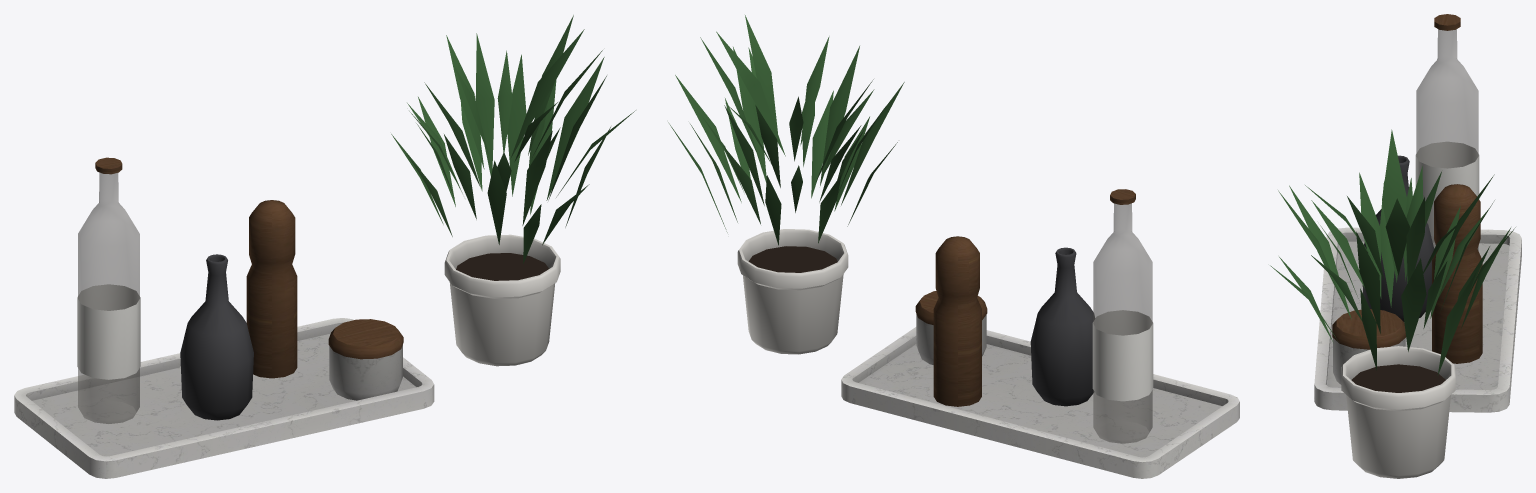
File: decor_b_vignette_range_r.gltf
3 renders of one model, left to right at view 1: azimuth 30°, elevation 25°; view 2: azimuth 150°, elevation 25°; view 3: azimuth 270°, elevation 25°, orthographic. The views are drawn at different scales.
Parts seen in each view (by area): view 1: DecorBVignetteRangeR_Marble_NoCollide, DecorBVignetteRangeR_Leaf_NoCollide, DecorBVignetteRangeR_CeramicWhite_NoCollide, DecorBVignetteRangeR_Bottle01_GlassSmoke_NoCollide, DecorBVignetteRangeR_Vase01_CeramicCharcoal_NoCollide, DecorBVignetteRangeR_PepperMill01_Walnut_NoCollide, DecorBVignetteRangeR_Bottle01_PaperWhite_NoCollide, DecorBVignetteRangeR_SaltCellar01_Marble_NoCollide, DecorBVignetteRangeR_SaltCellar01_Walnut_NoCollide, DecorBVignetteRangeR_Coffee_NoCollide; view 2: DecorBVignetteRangeR_Marble_NoCollide, DecorBVignetteRangeR_Leaf_NoCollide, DecorBVignetteRangeR_CeramicWhite_NoCollide, DecorBVignetteRangeR_Bottle01_GlassSmoke_NoCollide, DecorBVignetteRangeR_PepperMill01_Walnut_NoCollide, DecorBVignetteRangeR_Vase01_CeramicCharcoal_NoCollide, DecorBVignetteRangeR_Bottle01_PaperWhite_NoCollide, DecorBVignetteRangeR_Coffee_NoCollide, DecorBVignetteRangeR_SaltCellar01_Marble_NoCollide, DecorBVignetteRangeR_SaltCellar01_Walnut_NoCollide; view 3: DecorBVignetteRangeR_Leaf_NoCollide, DecorBVignetteRangeR_Marble_NoCollide, DecorBVignetteRangeR_CeramicWhite_NoCollide, DecorBVignetteRangeR_Bottle01_GlassSmoke_NoCollide, DecorBVignetteRangeR_PepperMill01_Walnut_NoCollide, DecorBVignetteRangeR_Bottle01_PaperWhite_NoCollide, DecorBVignetteRangeR_Vase01_CeramicCharcoal_NoCollide, DecorBVignetteRangeR_Coffee_NoCollide, DecorBVignetteRangeR_SaltCellar01_Walnut_NoCollide, DecorBVignetteRangeR_SaltCellar01_Marble_NoCollide, DecorBVignetteRangeR_Bottle01_Walnut_NoCollide.
Boxes of the visible parts, x1,y1,x2,y2 form: DecorBVignetteRangeR_Marble_NoCollide: (14,318,434,478); DecorBVignetteRangeR_Leaf_NoCollide: (391,15,635,263); DecorBVignetteRangeR_CeramicWhite_NoCollide: (444,234,560,366); DecorBVignetteRangeR_Bottle01_GlassSmoke_NoCollide: (78,172,139,423); DecorBVignetteRangeR_Vase01_CeramicCharcoal_NoCollide: (180,254,253,420); DecorBVignetteRangeR_PepperMill01_Walnut_NoCollide: (246,200,297,378); DecorBVignetteRangeR_Bottle01_PaperWhite_NoCollide: (77,284,140,379); DecorBVignetteRangeR_SaltCellar01_Marble_NoCollide: (329,344,402,400); DecorBVignetteRangeR_SaltCellar01_Walnut_NoCollide: (328,319,403,359); DecorBVignetteRangeR_Coffee_NoCollide: (456,253,548,280); DecorBVignetteRangeR_Marble_NoCollide: (841,327,1239,478); DecorBVignetteRangeR_Leaf_NoCollide: (668,15,904,245); DecorBVignetteRangeR_CeramicWhite_NoCollide: (737,229,848,354); DecorBVignetteRangeR_Bottle01_GlassSmoke_NoCollide: (1093,203,1152,443); DecorBVignetteRangeR_PepperMill01_Walnut_NoCollide: (933,236,981,406); DecorBVignetteRangeR_Vase01_CeramicCharcoal_NoCollide: (1030,247,1094,406); DecorBVignetteRangeR_Bottle01_PaperWhite_NoCollide: (1092,310,1153,401); DecorBVignetteRangeR_Coffee_NoCollide: (748,246,837,272); DecorBVignetteRangeR_SaltCellar01_Marble_NoCollide: (916,314,986,364); DecorBVignetteRangeR_SaltCellar01_Walnut_NoCollide: (915,291,987,324); DecorBVignetteRangeR_Leaf_NoCollide: (1270,129,1515,375); DecorBVignetteRangeR_Marble_NoCollide: (1314,227,1521,412); DecorBVignetteRangeR_CeramicWhite_NoCollide: (1341,346,1455,478); DecorBVignetteRangeR_Bottle01_GlassSmoke_NoCollide: (1416,29,1478,250); DecorBVignetteRangeR_PepperMill01_Walnut_NoCollide: (1432,184,1482,363); DecorBVignetteRangeR_Bottle01_PaperWhite_NoCollide: (1415,142,1479,236); DecorBVignetteRangeR_Vase01_CeramicCharcoal_NoCollide: (1362,155,1434,321); DecorBVignetteRangeR_Coffee_NoCollide: (1351,364,1445,392); DecorBVignetteRangeR_SaltCellar01_Walnut_NoCollide: (1332,309,1405,349); DecorBVignetteRangeR_SaltCellar01_Marble_NoCollide: (1333,338,1405,384); DecorBVignetteRangeR_Bottle01_Walnut_NoCollide: (1434,14,1460,30).
Size of the model in its own units: 0.6572 by 0.3464 by 0.2599.
8 materials, 2 textured.
